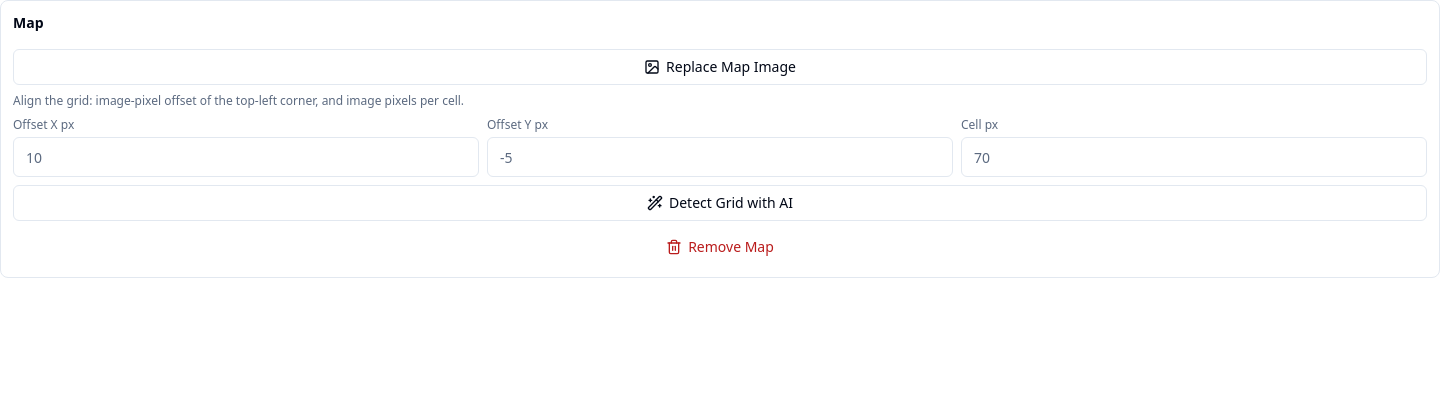
Test: MapPanel — Phase 10 grid detection › discards a proposal without applying it
Click the button "Detect Grid with AI" at coordinates (720, 203), box [13,185,1427,221]
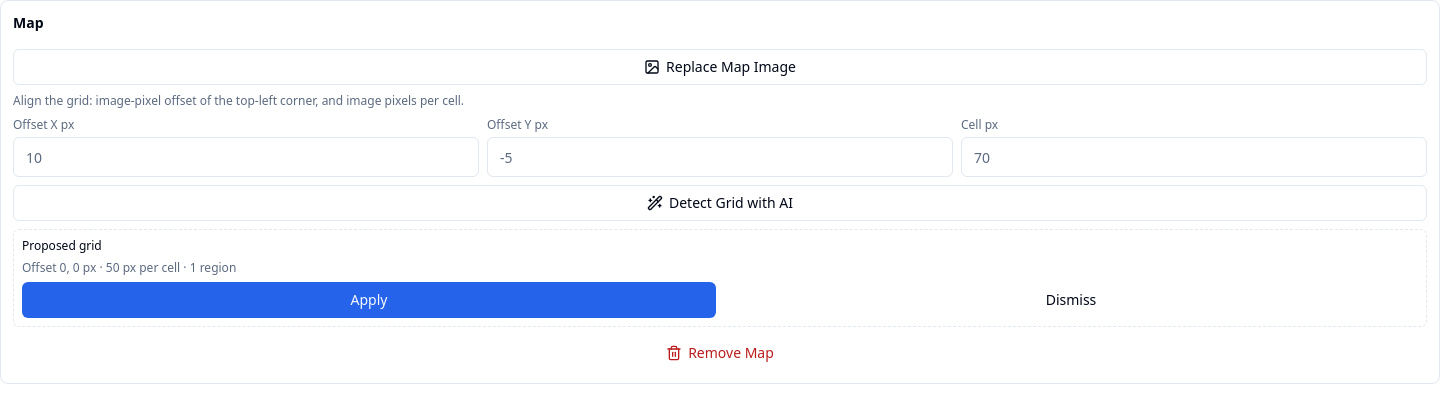
Result: the button "Dismiss" is shown
Click the button "Dismiss" at coordinates (1071, 300), box [724,282,1418,318]
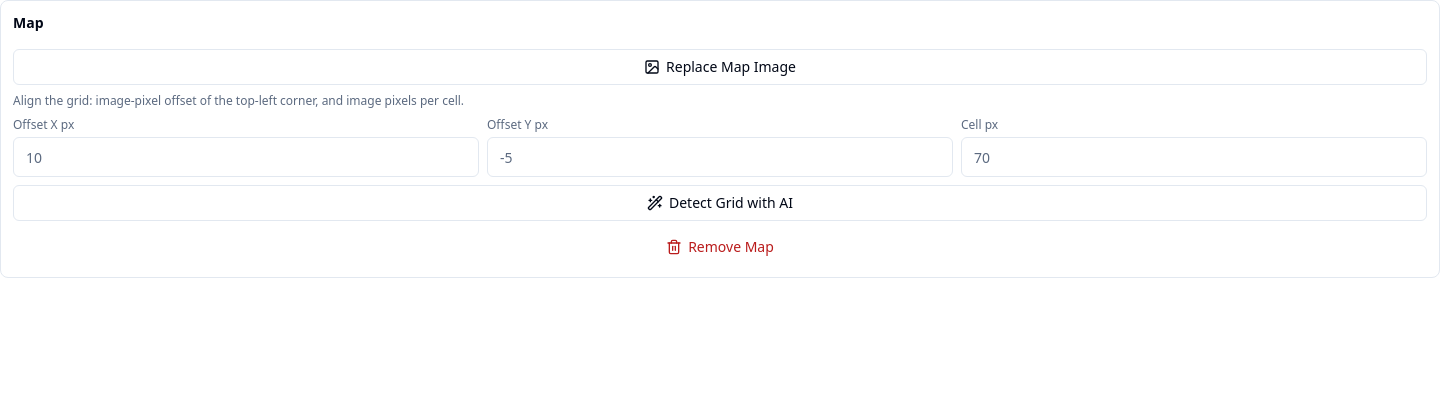
Result: the button "Apply" is gone
